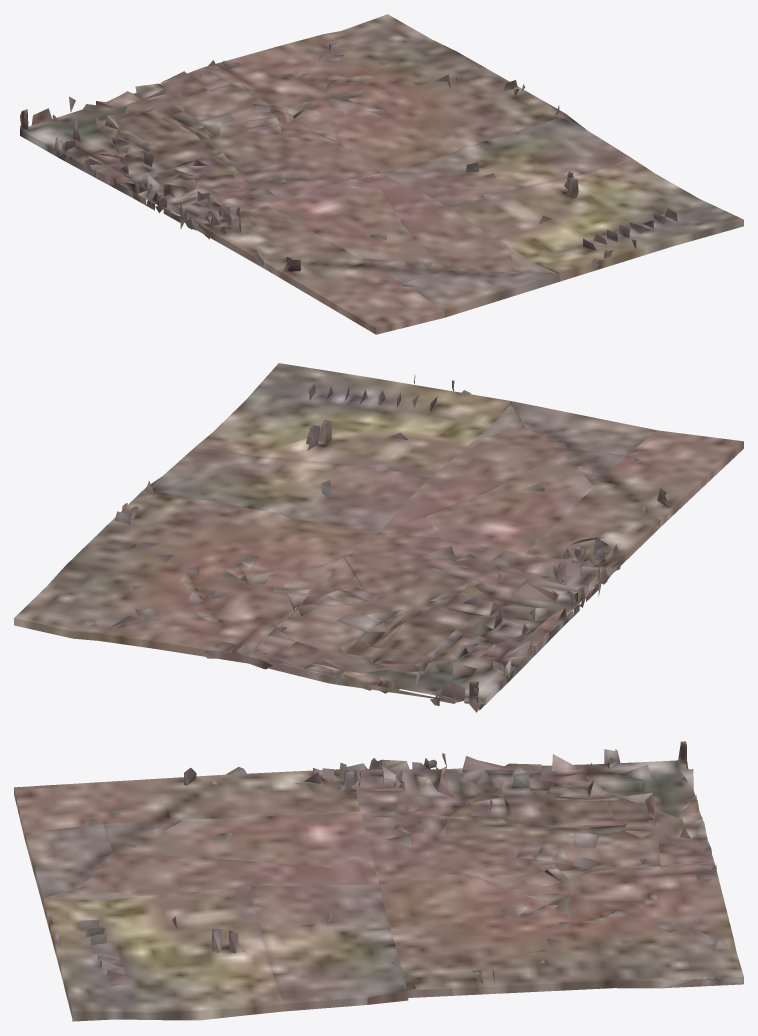
3 renders of one model, top to bottom at view 1: azimuth 30°, elevation 25°; view 2: azimuth 150°, elevation 25°; view 3: azimuth 270°, elevation 25°, orthographic. The views are drawn at different scales.
Visible parts, largest first — view 1: Mesh_0; view 2: Mesh_0; view 3: Mesh_0.
Part boxes in pixels (left/top/right/bottom): Mesh_0: left=20, top=14, right=743, bottom=334; Mesh_0: left=14, top=363, right=743, bottom=712; Mesh_0: left=14, top=741, right=743, bottom=1021.
Bounding box in the file's own units: 2158 × 158 × 2636.
1 material, 1 textured.
